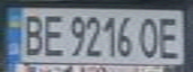1: (100, 12, 118, 57)
2: (84, 12, 103, 59)
6: (115, 12, 139, 59)
9: (63, 11, 87, 57)
B: (18, 10, 48, 57)
E: (154, 13, 184, 60), (39, 11, 66, 58)
O: (136, 13, 163, 60)
